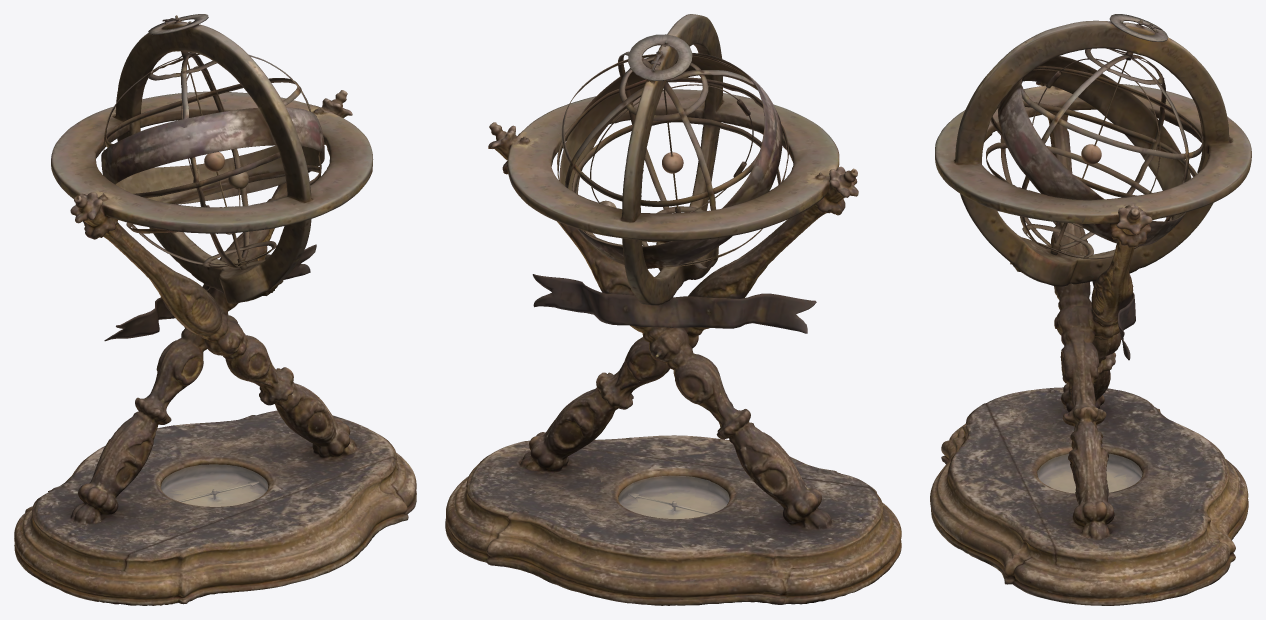
File: armillary.glb
3 views of the same model, side by side, from view 1: azimuth 30°, elevation 25°; view 2: azimuth 150°, elevation 25°; view 3: azimuth 270°, elevation 25° (orthographic). The views are drawn at different scales.
Parts seen in each view (by area): view 1: Sfera_nr_2_03_ZB; view 2: Sfera_nr_2_03_ZB; view 3: Sfera_nr_2_03_ZB.
Boxes of the visible parts, x1,y1,x2,y2 form: Sfera_nr_2_03_ZB: (14, 14, 416, 605); Sfera_nr_2_03_ZB: (445, 14, 901, 605); Sfera_nr_2_03_ZB: (930, 14, 1251, 605).
Bounding box in the file's own units: 0.4141 × 0.5102 × 0.3041.
Materials: 2 (1 with a texture image).
